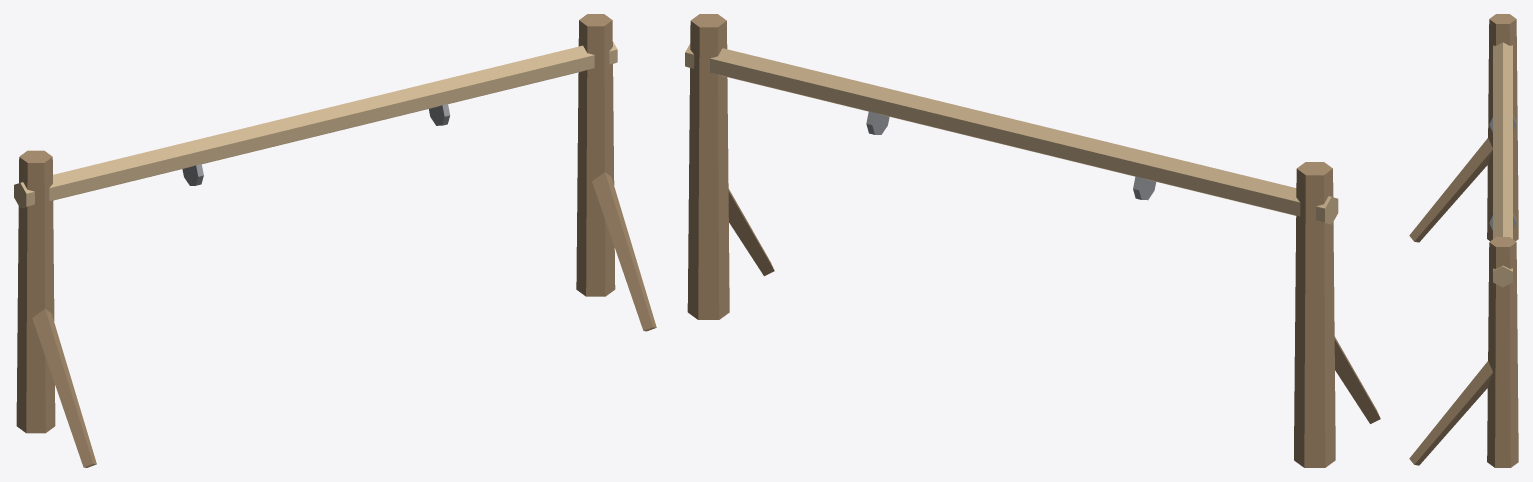
The model's file is hitching_post.glb.
3 renders of one model, left to right at view 1: azimuth 30°, elevation 25°; view 2: azimuth 150°, elevation 25°; view 3: azimuth 270°, elevation 25°, orthographic. The views are drawn at different scales.
Visible parts, largest first — view 1: hitching_post; view 2: hitching_post; view 3: hitching_post.
Part boxes in pixels (x1=…): hitching_post: x1=14, y1=14, x2=656, y2=467; hitching_post: x1=685, y1=14, x2=1380, y2=467; hitching_post: x1=1409, y1=14, x2=1518, y2=467.
Bounding box in the file's own units: 2.64 × 1.17 × 0.5188.
